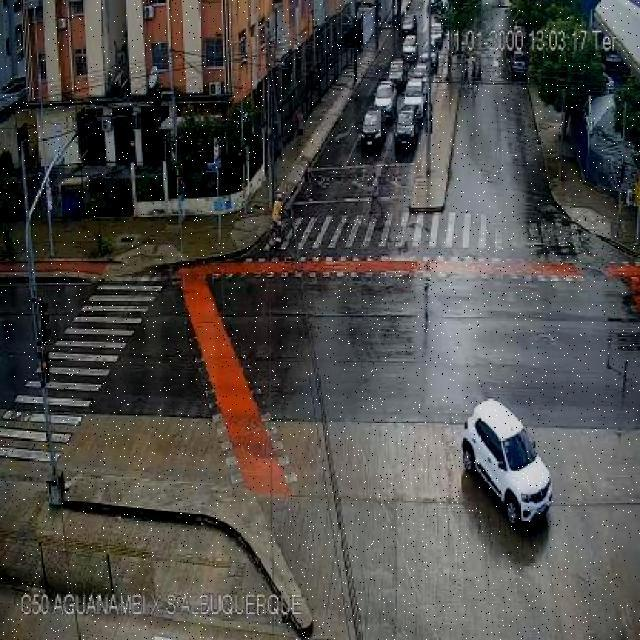Car: (462, 396, 552, 526), (394, 107, 421, 154), (360, 110, 385, 155), (372, 82, 397, 118), (403, 76, 428, 108), (509, 51, 529, 80), (410, 63, 431, 89), (401, 34, 418, 65), (388, 60, 406, 89), (401, 14, 416, 38)
